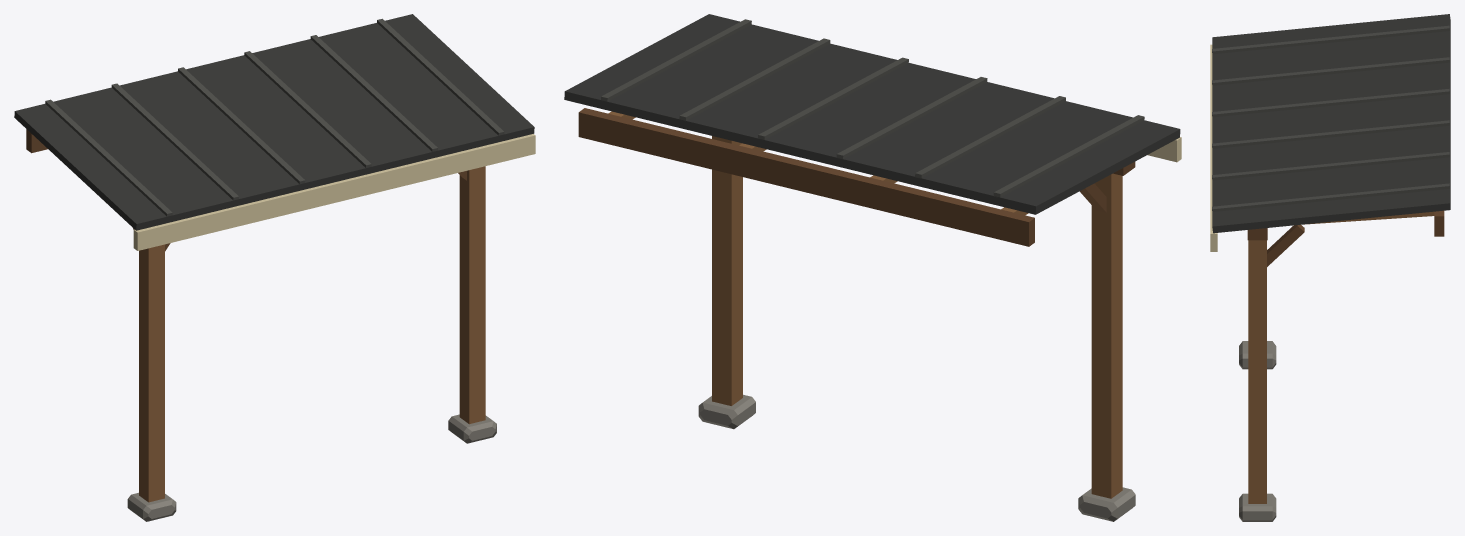
Rendered from SM_Bld_Porch_01.glb.
3 views of the same model, side by side, from view 1: azimuth 30°, elevation 25°; view 2: azimuth 150°, elevation 25°; view 3: azimuth 270°, elevation 25° (orthographic). The views are drawn at different scales.
Parts seen in each view (by area): view 1: SM_Bld_Porch_01; view 2: SM_Bld_Porch_01; view 3: SM_Bld_Porch_01.
Boxes of the visible parts, x1,y1,x2,y2 form: SM_Bld_Porch_01: [14, 14, 535, 521]; SM_Bld_Porch_01: [564, 14, 1181, 521]; SM_Bld_Porch_01: [1210, 14, 1450, 521].
Size of the model in its own units: 3.6 by 2.96 by 1.93.
Materials: 1 (1 with a texture image).
